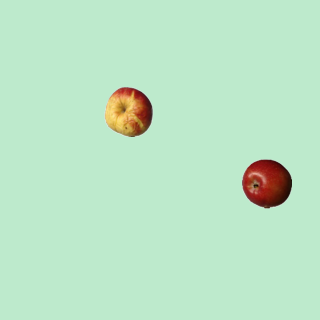Apple Braeburn: (241, 158, 291, 208)
Apple Red Yellow 1: (103, 86, 153, 136)
